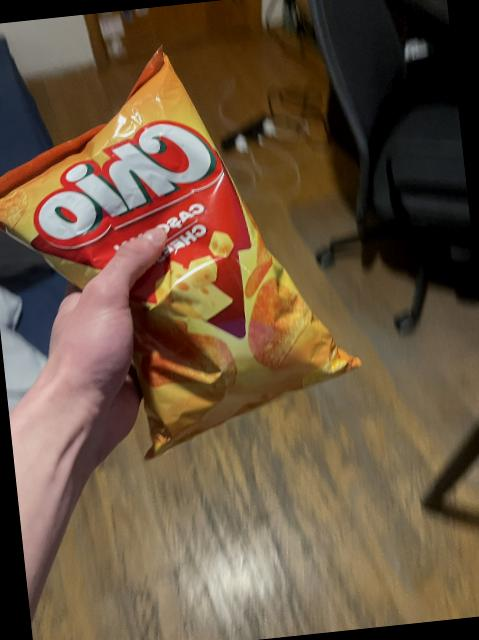Chio Cascaval 125g: (0, 32, 365, 470)
